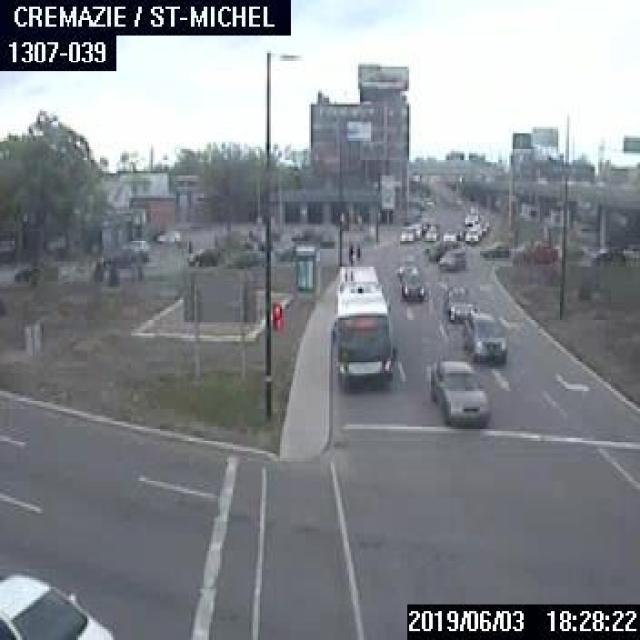bus: (331, 260, 391, 389)
pedestrian: (354, 241, 360, 260), (347, 240, 352, 262)
vehicle: (0, 569, 116, 638), (428, 358, 488, 422), (462, 310, 506, 362), (444, 284, 475, 322), (398, 264, 424, 300), (186, 245, 222, 266), (521, 241, 557, 261), (102, 246, 136, 266), (436, 247, 465, 269), (12, 264, 42, 283), (232, 249, 264, 266), (478, 238, 508, 255), (587, 246, 611, 262), (155, 228, 180, 242), (124, 238, 148, 252), (399, 224, 415, 240), (423, 224, 438, 240), (464, 225, 478, 242), (441, 227, 457, 241), (409, 221, 421, 236), (463, 213, 473, 224)
